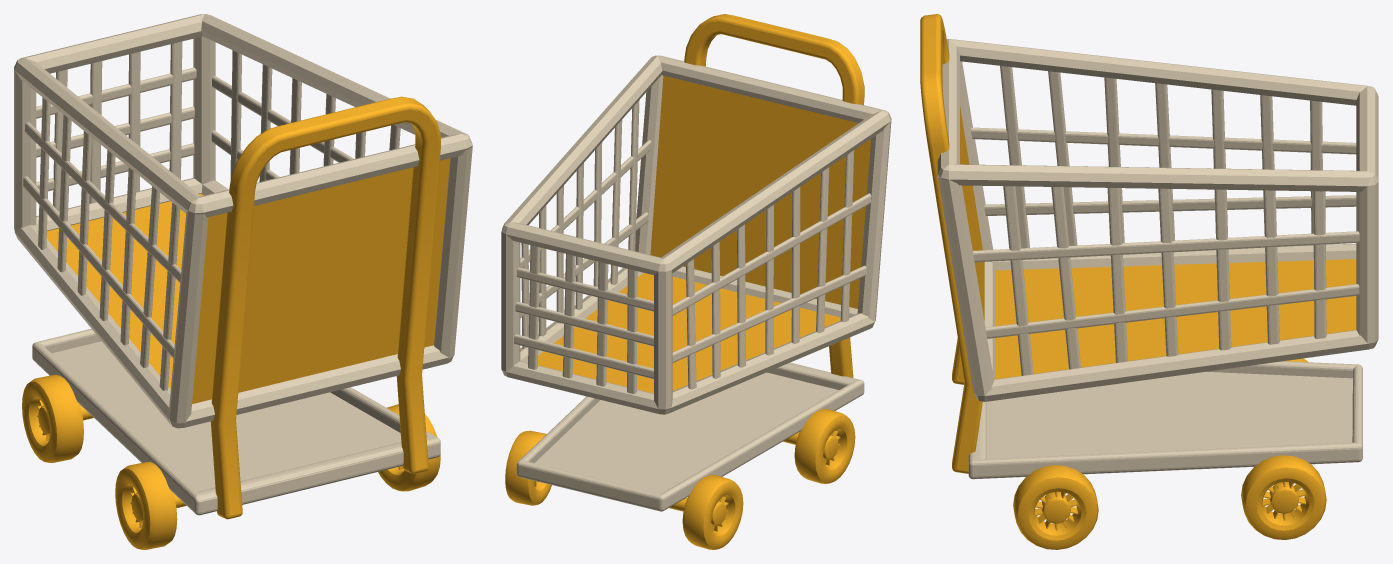
The model's file is caddie.fbx.
3 renders of one model, left to right at view 1: azimuth 30°, elevation 25°; view 2: azimuth 150°, elevation 25°; view 3: azimuth 270°, elevation 25°, orthographic. The views are drawn at different scales.
Visible parts, largest first — view 1: caddie, fond_caddie, anse, roue_1_G, roue_2_G, roue_2_D; view 2: caddie, fond_caddie, anse, roue_1_G, roue_2_G, roue_1_D; view 3: caddie, fond_caddie, anse, roue_2_D, roue_1_D.
Part boxes in pixels (x1,y1,x2,y2): caddie: (14,14,472,515); fond_caddie: (46,158,450,403); anse: (210,96,440,519); roue_1_G: (22,375,83,462); roue_2_G: (115,462,177,549); roue_2_D: (378,404,440,491); caddie: (501,55,891,511); fond_caddie: (538,75,870,393); anse: (684,14,864,377); roue_1_G: (682,475,743,549); roue_2_G: (794,409,855,483); roue_1_D: (505,430,551,505); caddie: (937,39,1378,479); fond_caddie: (960,106,1356,379); anse: (920,14,982,473); roue_2_D: (1013,465,1098,549); roue_1_D: (1241,455,1326,539).
Bounding box in the file's own units: 145 × 216 × 205.
